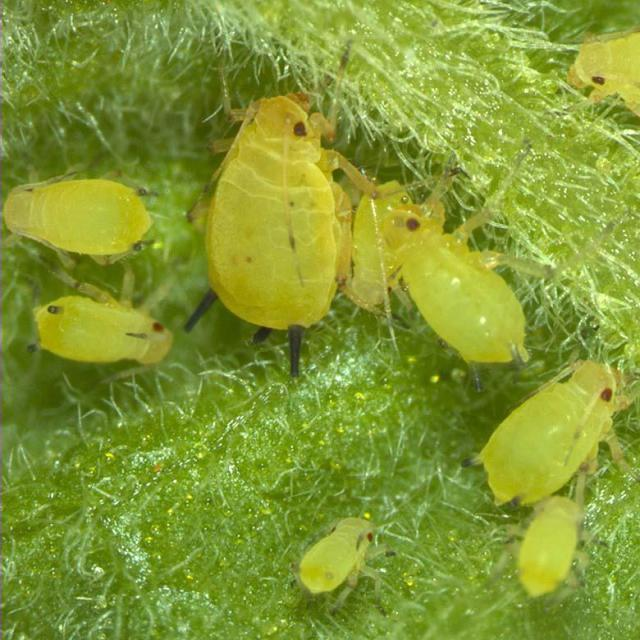Aphids: (176, 61, 364, 384), (380, 152, 554, 365), (499, 330, 626, 515), (25, 270, 180, 391), (3, 170, 178, 275), (282, 495, 418, 617)
